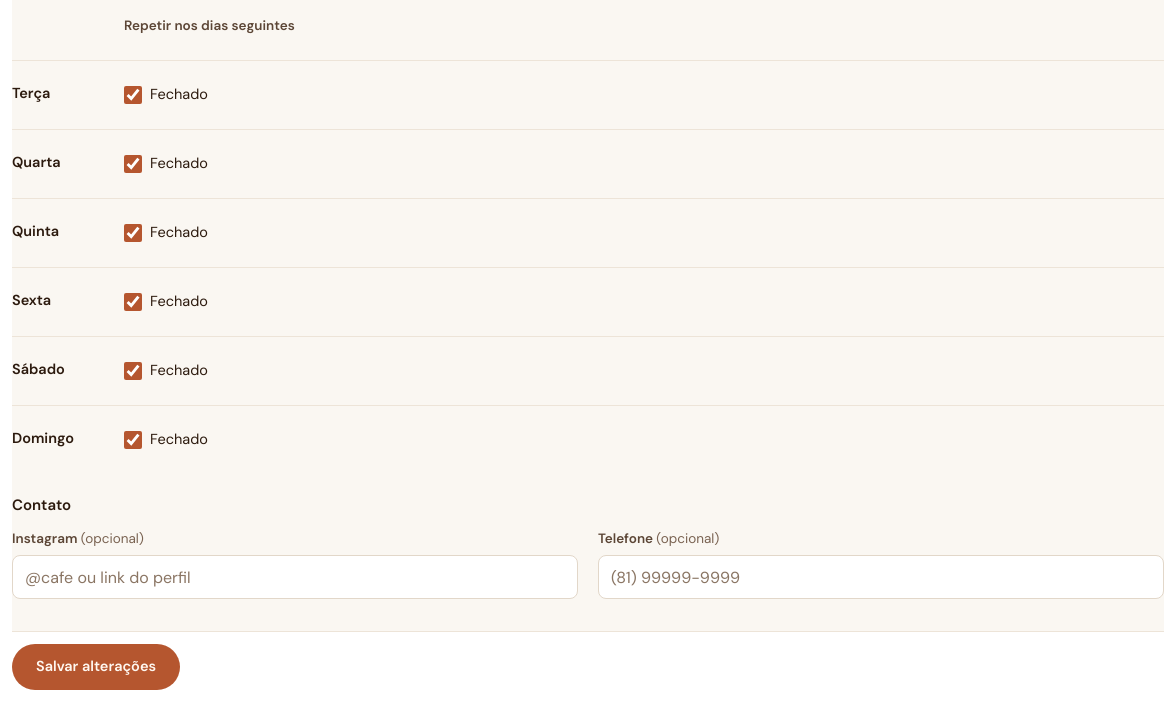
Test: DadosCafeForm › salva os 7 dias de horário e mostra o que o banco guardou
(page scrolled)
Type "81999084986" into the field labelled "Telefone (opcional)" at coordinates (881, 577), box [598, 555, 1164, 599]
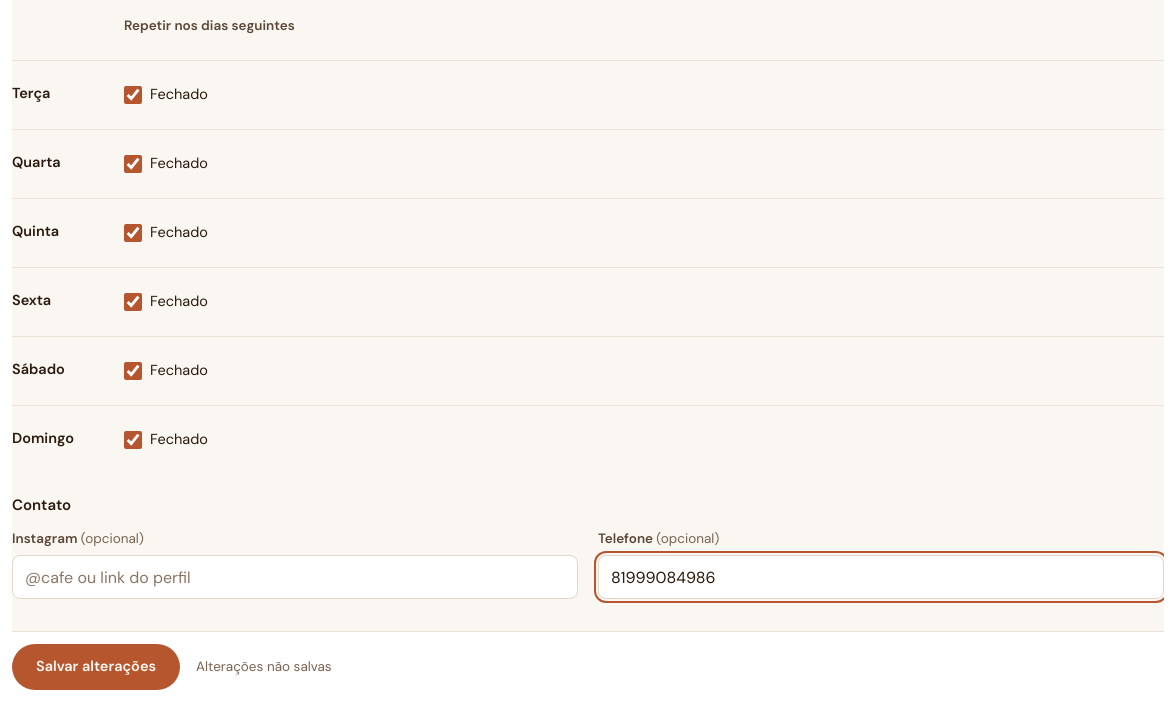
Click the button "Salvar alterações" at coordinates (96, 667), box [12, 644, 180, 690]
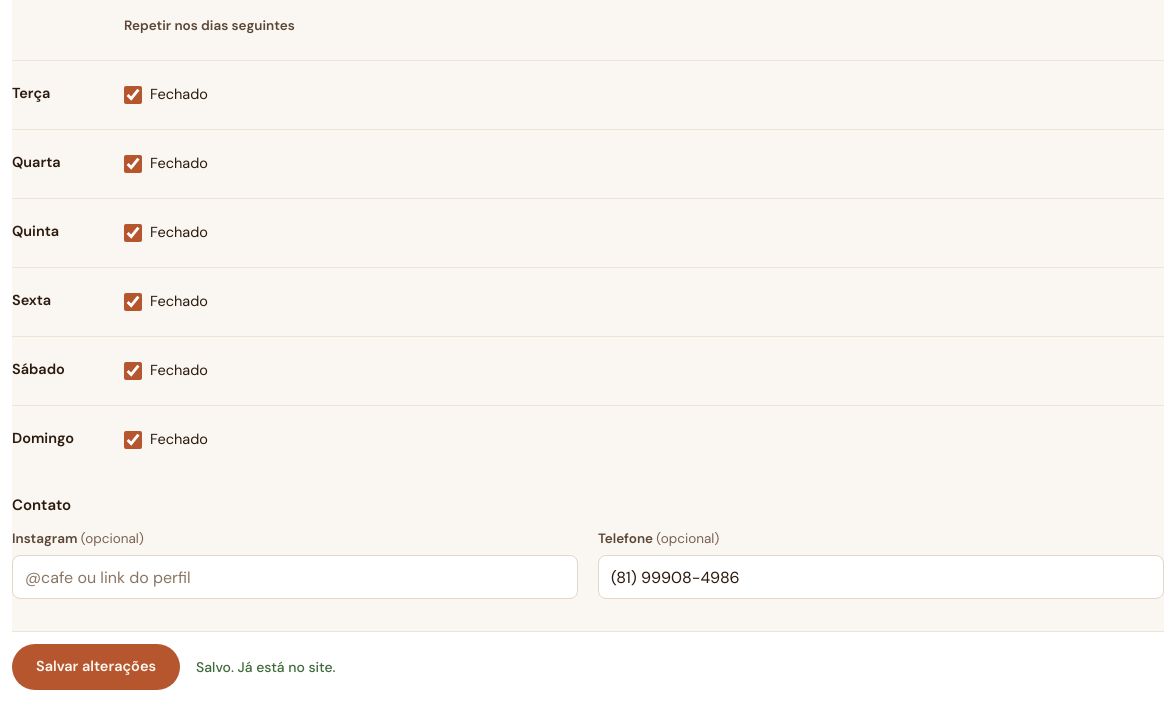
Expected: the text "Salvo. Já está no site." is shown, [196, 656, 336, 678]
Expected: the field labelled "Telefone (opcional)" holds "(81) 99908-4986", [598, 555, 1164, 599]
